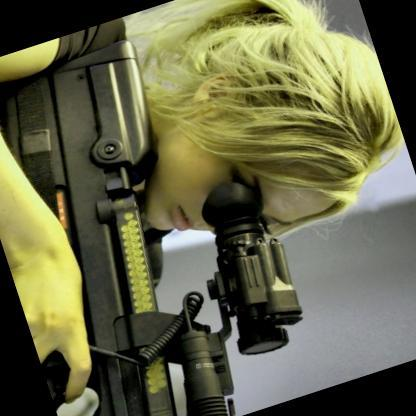rifle: (0, 14, 319, 416)
